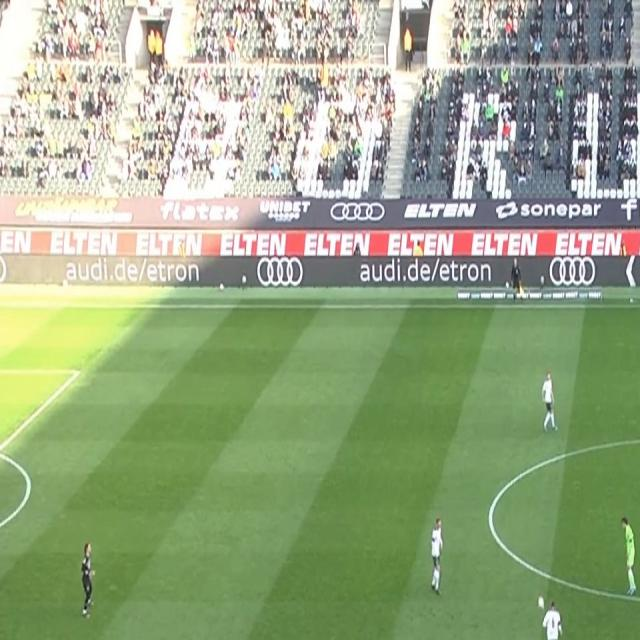ball: (536, 594, 544, 609)
